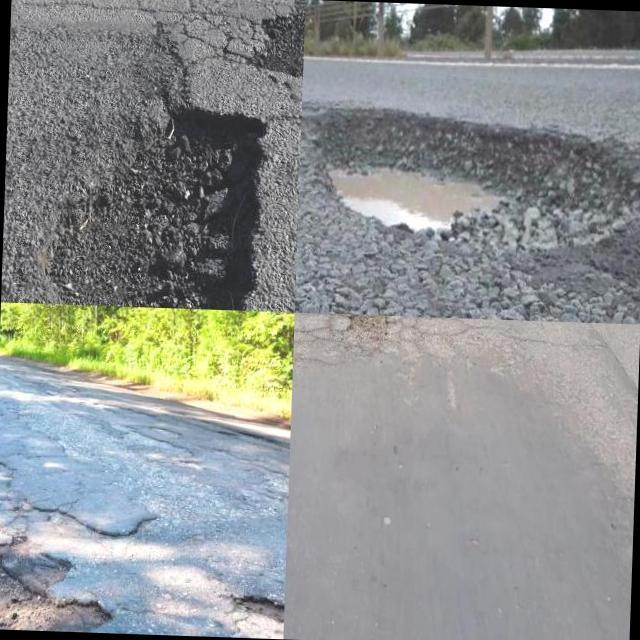Pothole: (39, 21, 269, 310), (300, 107, 640, 294), (0, 534, 106, 632), (343, 314, 388, 344)
